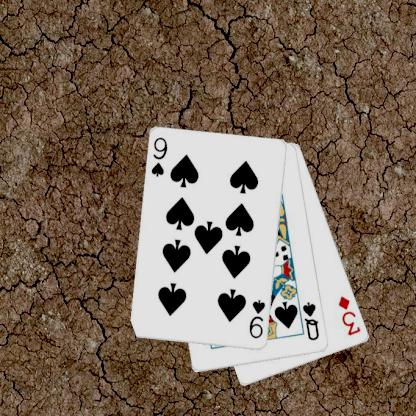3D: (336, 294, 362, 338)
9S: (246, 297, 266, 340), (149, 135, 169, 178)
QS: (300, 300, 321, 342)
